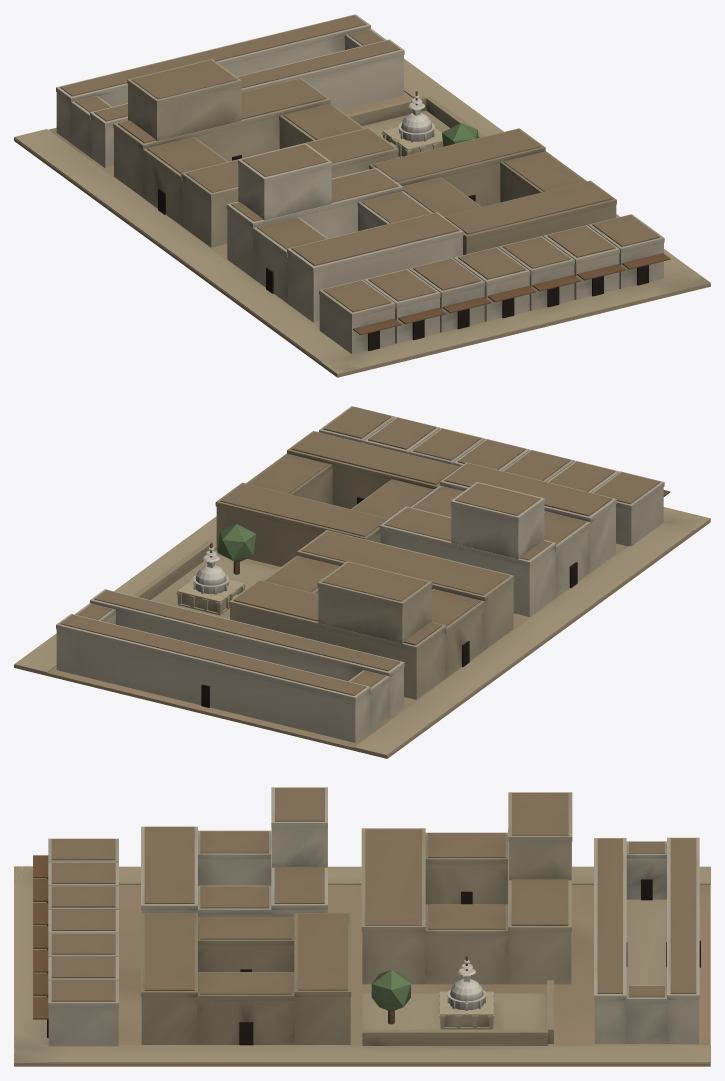
Rendered from sirkap-block.glb.
The picture shows the model from 3 angles, top to bottom: view 1: azimuth 30°, elevation 25°; view 2: azimuth 150°, elevation 25°; view 3: azimuth 270°, elevation 25°; orthographic projection. The views are drawn at different scales.
Parts seen in each view (by area): view 1: p2_houses, p1_shops, p0_ground, p3_stupa court; view 2: p2_houses, p0_ground, p1_shops, p3_stupa court; view 3: p2_houses, p0_ground, p1_shops, p3_stupa court.
Part boxes in pixels (<box>): p2_houses: <box>56,14,616,322</box>; p1_shops: <box>319,214,670,354</box>; p0_ground: <box>14,58,710,377</box>; p3_stupa court: <box>346,91,485,157</box>; p2_houses: <box>56,431,616,742</box>; p0_ground: <box>14,507,710,758</box>; p1_shops: <box>319,406,670,546</box>; p3_stupa court: <box>132,524,276,619</box>; p2_houses: <box>141,787,700,1045</box>; p0_ground: <box>14,866,710,1066</box>; p1_shops: <box>33,838,118,1046</box>; p3_stupa court: <box>362,955,553,1045</box>.
Size of the model in its own units: 40.02 by 10.3 by 60.02.
